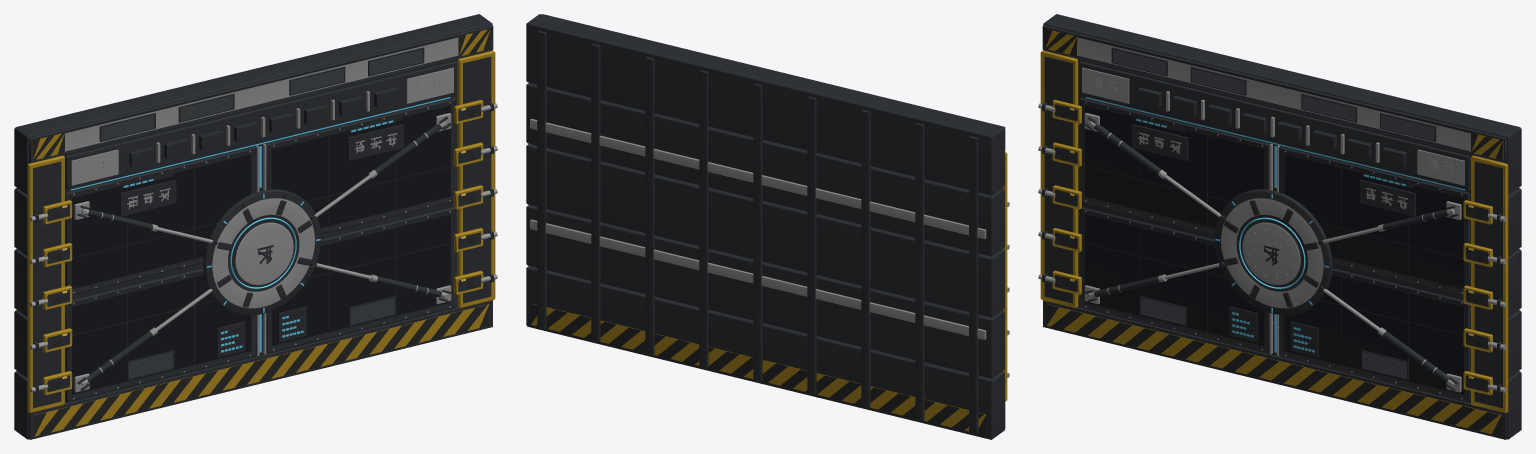
The model's file is Vault_BlastDoor.fbx.
3 views of the same model, side by side, from view 1: azimuth 30°, elevation 25°; view 2: azimuth 150°, elevation 25°; view 3: azimuth 330°, elevation 25° (orthographic).
Parts seen in each view (by area): view 1: Vault_BlastDoor_LOD0; view 2: Vault_BlastDoor_LOD0; view 3: Vault_BlastDoor_LOD0.
Boxes of the visible parts, x1,y1,x2,y2 form: Vault_BlastDoor_LOD0: [14, 14, 497, 439]; Vault_BlastDoor_LOD0: [526, 14, 1009, 439]; Vault_BlastDoor_LOD0: [1038, 14, 1521, 439].
Size of what is drawn, in the model's own units: 16 by 9.96 by 1.2.
